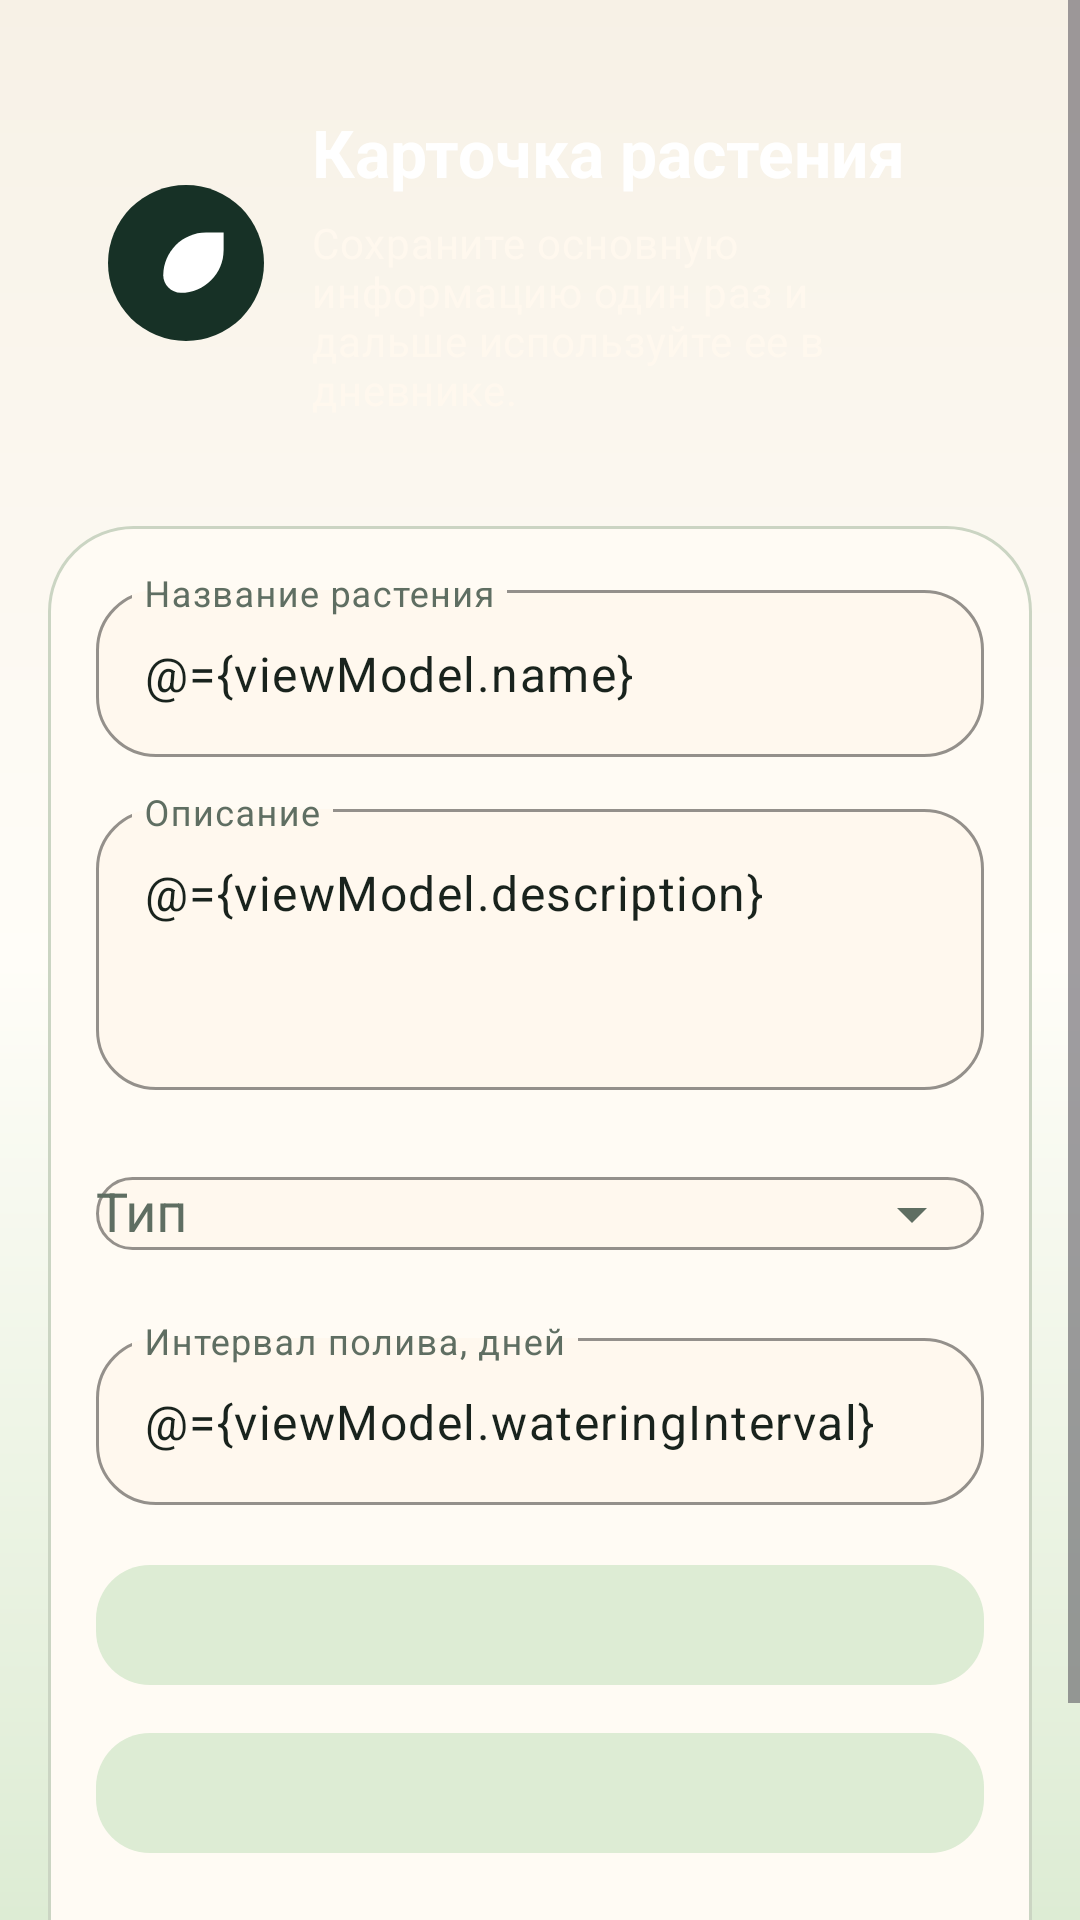

Where icons sit on this 1080px×1920px app screen, as (x1, y1, x2, y2):
plant leaf: (108, 185, 264, 341)
